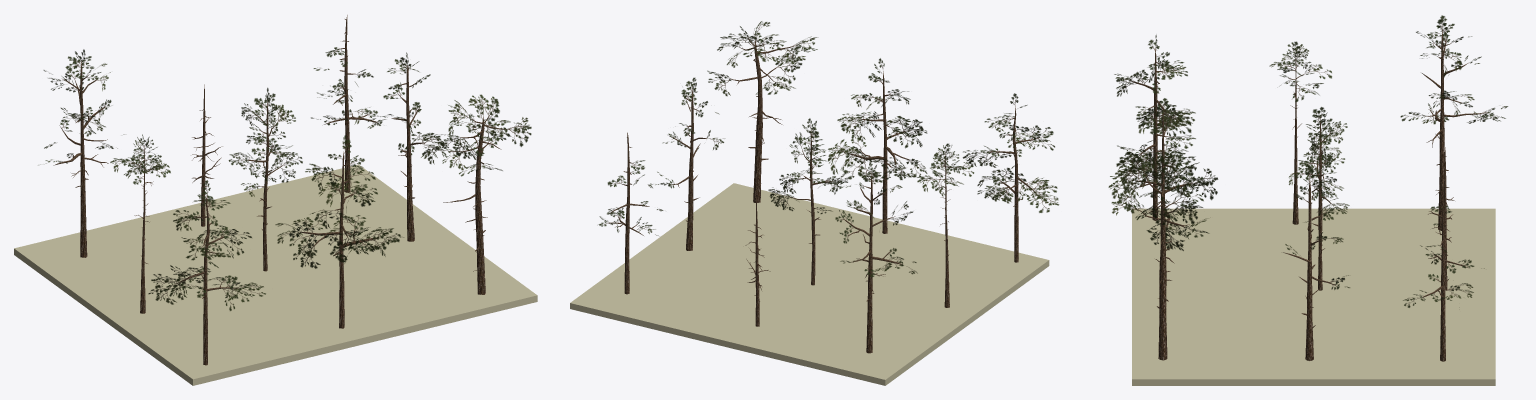
The model's file is scots_pines.glb.
3 views of the same model, side by side, from view 1: azimuth 30°, elevation 25°; view 2: azimuth 150°, elevation 25°; view 3: azimuth 270°, elevation 25° (orthographic). The views are drawn at different scales.
Parts seen in each view (by area): view 1: Box001, 2_Foliage_mat1, 1_Foliage_mat1, 3_Foliage_mat1, 5_Foliage_mat1_Mat_Foliage_1_0, 3_Trunk, 1_Foliage_mat2, 2_Foliage_mat2, 5_Foliage_mat2_Material #28_0, 7_Trunk, 6_Trunk, 7_Foliage_mat2 (+12 smaller); view 2: Box001, 2_Foliage_mat1, 1_Foliage_mat1, 3_Foliage_mat1, 5_Foliage_mat1_Mat_Foliage_1_0, 3_Trunk, 1_Foliage_mat2, 7_Trunk, 6_Trunk, 5_Foliage_mat2_Material #28_0, 7_Foliage_mat2, 9_Trunk (+11 smaller); view 3: Box001, 2_Foliage_mat1, 3_Foliage_mat1, 1_Foliage_mat1, 5_Foliage_mat1_Mat_Foliage_1_0, 3_Trunk, 1_Foliage_mat2, 5_Foliage_mat2_Material #28_0, 6_Trunk, 7_Trunk, 7_Foliage_mat1, 9_Trunk (+11 smaller).
Part boxes in pixels (bbox=[...]): Box001: bbox=[14, 164, 537, 385]; 2_Foliage_mat1: bbox=[275, 163, 403, 268]; 1_Foliage_mat1: bbox=[148, 198, 265, 310]; 3_Foliage_mat1: bbox=[422, 94, 531, 176]; 5_Foliage_mat1_Mat_Foliage_1_0: bbox=[228, 103, 302, 196]; 3_Trunk: bbox=[475, 116, 485, 294]; 1_Foliage_mat2: bbox=[188, 180, 249, 297]; 2_Foliage_mat2: bbox=[289, 135, 373, 262]; 5_Foliage_mat2_Material #28_0: bbox=[240, 87, 293, 188]; 7_Trunk: bbox=[80, 61, 87, 257]; 6_Trunk: bbox=[406, 65, 414, 241]; 7_Foliage_mat2: bbox=[44, 49, 111, 163]; Box001: bbox=[570, 183, 1049, 385]; 2_Foliage_mat1: bbox=[828, 91, 927, 181]; 1_Foliage_mat1: bbox=[963, 117, 1058, 212]; 3_Foliage_mat1: bbox=[707, 21, 817, 96]; 5_Foliage_mat1_Mat_Foliage_1_0: bbox=[768, 132, 848, 213]; 3_Trunk: bbox=[753, 40, 762, 202]; 1_Foliage_mat2: bbox=[980, 93, 1052, 200]; 7_Trunk: bbox=[866, 172, 872, 353]; 6_Trunk: bbox=[686, 88, 693, 250]; 5_Foliage_mat2_Material #28_0: bbox=[781, 118, 839, 208]; 7_Foliage_mat2: bbox=[835, 162, 896, 277]; 9_Trunk: bbox=[624, 132, 629, 294]; Box001: bbox=[1132, 208, 1495, 385]; 2_Foliage_mat1: bbox=[1108, 110, 1218, 250]; 3_Foliage_mat1: bbox=[1111, 150, 1209, 237]; 1_Foliage_mat1: bbox=[1114, 60, 1195, 173]; 5_Foliage_mat1_Mat_Foliage_1_0: bbox=[1289, 121, 1349, 217]; 3_Trunk: bbox=[1158, 179, 1167, 360]; 1_Foliage_mat2: bbox=[1115, 34, 1181, 157]; 5_Foliage_mat2_Material #28_0: bbox=[1294, 107, 1338, 206]; 6_Trunk: bbox=[1305, 178, 1313, 360]; 7_Trunk: bbox=[1438, 30, 1444, 230]; 7_Foliage_mat1: bbox=[1400, 31, 1507, 124]; 9_Trunk: bbox=[1440, 182, 1445, 361].
Size of the model in its own units: 601 by 314 by 553.
Materials: 4 (3 with a texture image).
